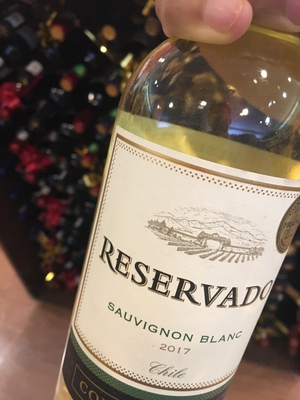reservado sauvignon blanc: (73, 12, 293, 400)
